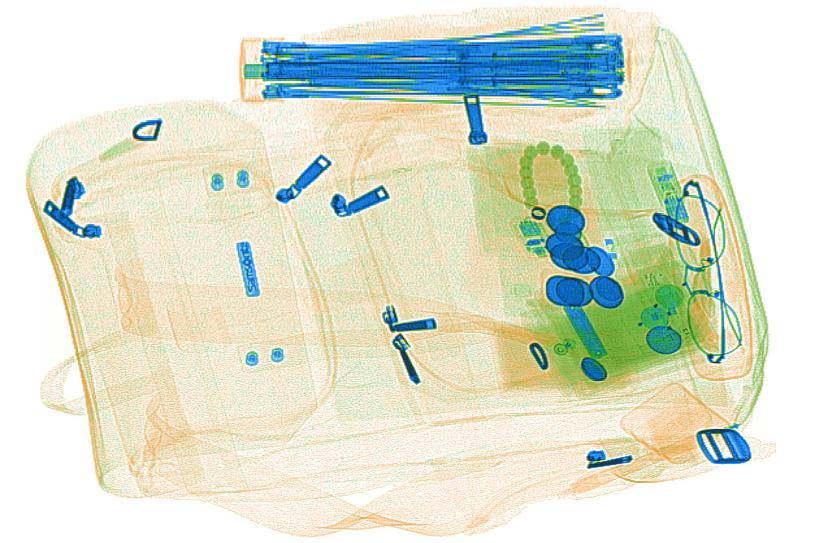USBFlashDisk: (646, 153, 689, 226), (511, 212, 549, 262)
